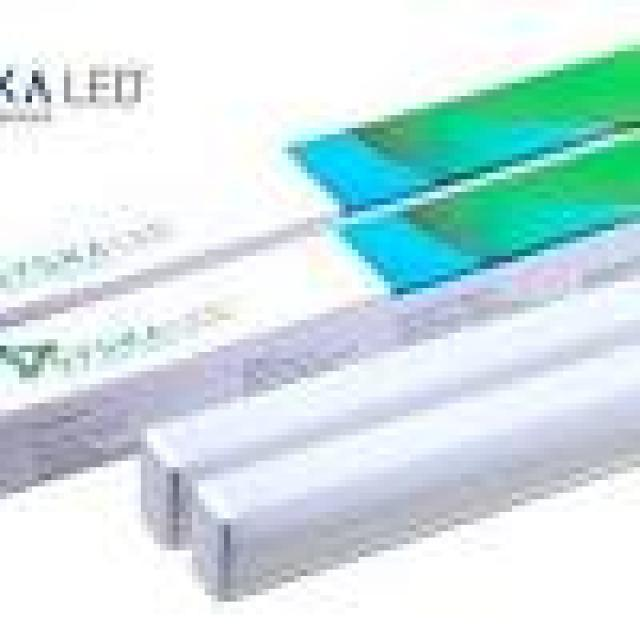tubelight_off: (140, 276, 640, 553), (175, 351, 640, 616)
